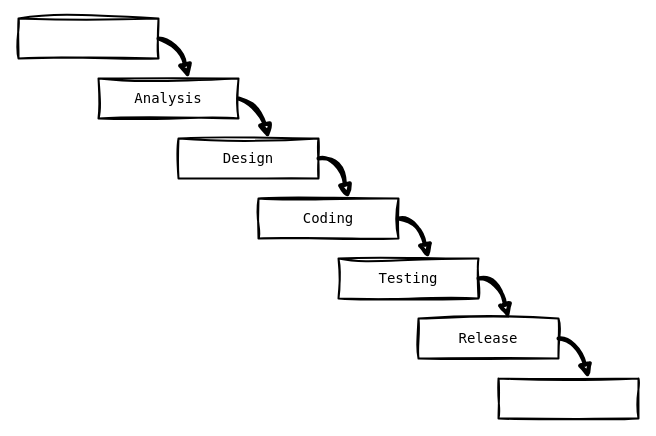
The diagram is 656 pixels wide and 436 high, and some of its shapes have lost their labels. The centre of each missing label's shape, as x and y in pixels:
Operation: the point at 568,398
Requirements: the point at 88,38
